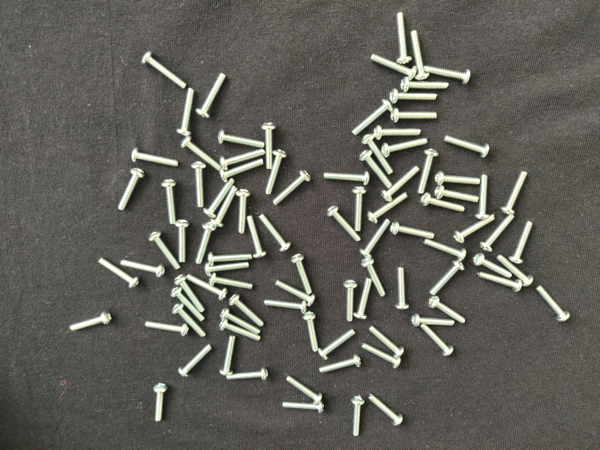longscrew: (142, 53, 187, 87), (196, 74, 232, 116), (498, 173, 532, 216), (273, 171, 310, 208), (100, 256, 139, 291), (353, 99, 389, 135), (370, 192, 410, 224), (427, 263, 464, 297), (357, 219, 391, 256), (371, 53, 418, 79), (259, 214, 292, 251), (362, 136, 395, 173), (184, 140, 224, 170), (536, 285, 571, 319), (383, 168, 418, 202), (151, 232, 183, 269), (327, 207, 364, 239), (188, 270, 226, 301), (425, 64, 474, 88), (117, 169, 146, 209), (501, 254, 535, 288), (481, 217, 513, 253), (430, 297, 468, 327), (455, 216, 497, 243), (175, 344, 211, 375), (263, 149, 287, 195), (286, 375, 321, 406), (508, 225, 537, 262), (360, 257, 388, 295), (421, 325, 454, 357), (417, 147, 439, 195), (172, 288, 203, 322), (205, 178, 232, 217), (370, 328, 405, 358), (363, 154, 394, 187), (176, 275, 203, 312), (370, 392, 401, 424), (174, 307, 206, 338), (232, 296, 262, 329), (409, 31, 430, 78), (69, 310, 111, 333), (146, 317, 188, 340), (131, 149, 177, 170), (223, 311, 260, 337), (290, 256, 314, 296), (244, 217, 268, 257), (362, 345, 401, 369), (422, 194, 464, 216), (424, 238, 466, 260), (221, 160, 265, 181), (443, 136, 489, 156), (214, 188, 238, 226), (320, 333, 355, 359), (475, 255, 511, 280), (220, 148, 265, 168), (221, 322, 260, 345), (195, 222, 216, 264), (392, 225, 436, 245), (277, 282, 313, 306), (479, 272, 521, 292), (260, 122, 278, 168), (347, 395, 365, 441), (320, 356, 361, 376), (121, 261, 164, 280), (159, 181, 178, 224), (178, 88, 195, 135), (232, 188, 249, 235), (301, 312, 319, 356), (174, 219, 192, 263), (219, 130, 265, 147), (207, 248, 253, 265), (209, 274, 255, 291), (356, 277, 374, 320), (348, 189, 366, 232), (218, 333, 236, 376), (190, 164, 208, 207), (205, 259, 250, 276), (381, 140, 427, 156), (279, 401, 326, 416), (398, 11, 411, 64), (265, 299, 309, 314), (322, 172, 369, 186), (436, 188, 479, 203), (396, 265, 409, 310), (222, 369, 270, 381), (436, 172, 482, 184), (393, 90, 435, 103), (343, 277, 355, 322), (413, 316, 456, 328), (156, 383, 168, 425), (388, 111, 438, 121), (373, 127, 423, 137), (404, 81, 453, 91), (479, 172, 489, 221)
